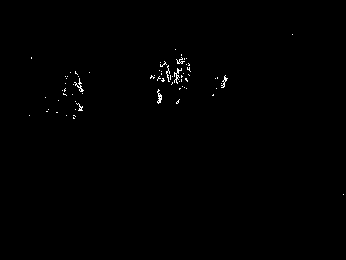person: (171, 52, 191, 109), (149, 60, 172, 105)
